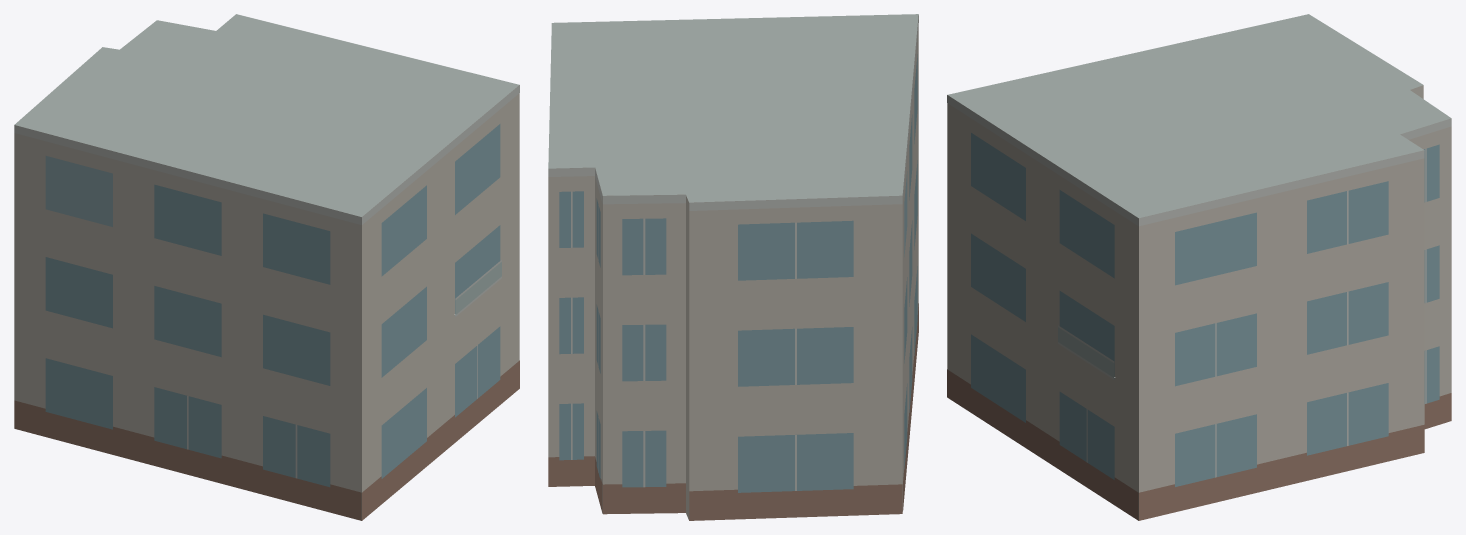
The model's file is survey-upis-32950412.glb.
3 views of the same model, side by side, from view 1: azimuth 30°, elevation 25°; view 2: azimuth 150°, elevation 25°; view 3: azimuth 270°, elevation 25° (orthographic). The views are drawn at different scales.
Parts seen in each view (by area): view 1: survey-upis-32950412.tmp; view 2: survey-upis-32950412.tmp; view 3: survey-upis-32950412.tmp.
Boxes of the visible parts, left/top/right/bottom form: survey-upis-32950412.tmp: left=14, top=14, right=519, bottom=520; survey-upis-32950412.tmp: left=548, top=14, right=918, bottom=520; survey-upis-32950412.tmp: left=947, top=14, right=1451, bottom=520.
Size of the model in its own units: 13.26 by 9.15 by 13.83.
